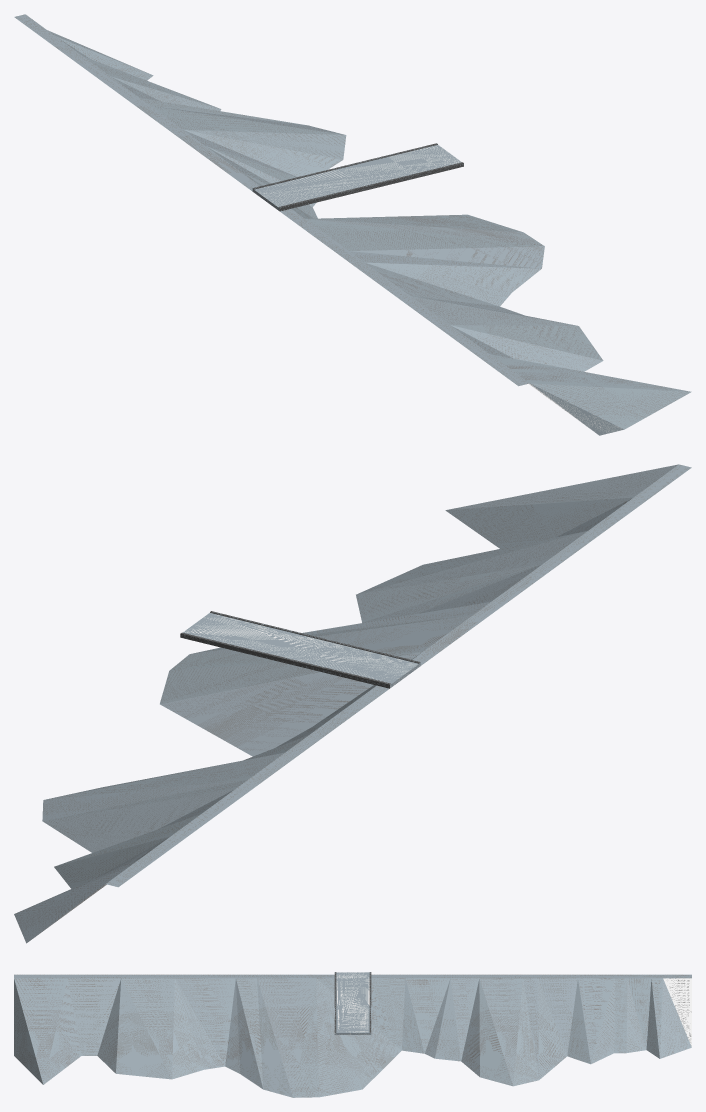
File: road lake start.fbx
The picture shows the model from 3 angles, top to bottom: view 1: azimuth 30°, elevation 25°; view 2: azimuth 150°, elevation 25°; view 3: azimuth 270°, elevation 25°; orthographic projection. The views are drawn at different scales.
Visible parts, largest first — view 1: Model; view 2: Model; view 3: Model.
Part boxes in pixels (x1,y1,x2,y2): Model: (14,14,691,435); Model: (14,464,691,943); Model: (14,972,691,1097).
Size of the model in its own units: 125 by 37.02 by 465.
